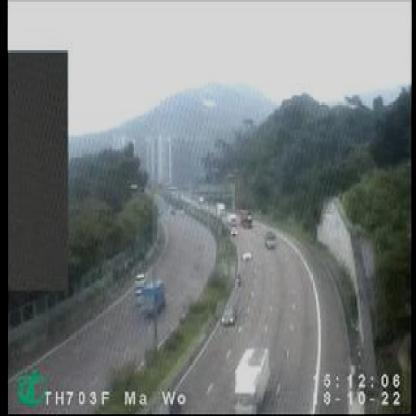Car: (220, 306, 236, 327), (134, 272, 146, 291), (240, 249, 254, 264)
Truck: (232, 344, 269, 416), (140, 278, 166, 314), (224, 212, 241, 236), (265, 228, 277, 250), (243, 210, 255, 226)
